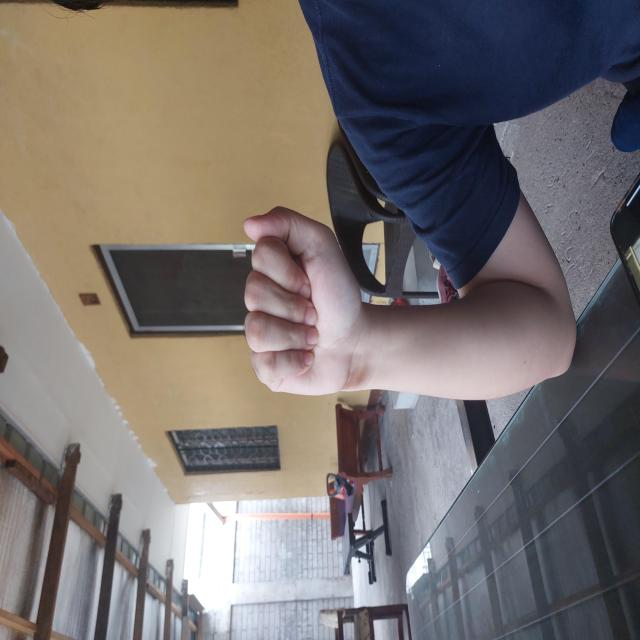A: (242, 241, 438, 366)
